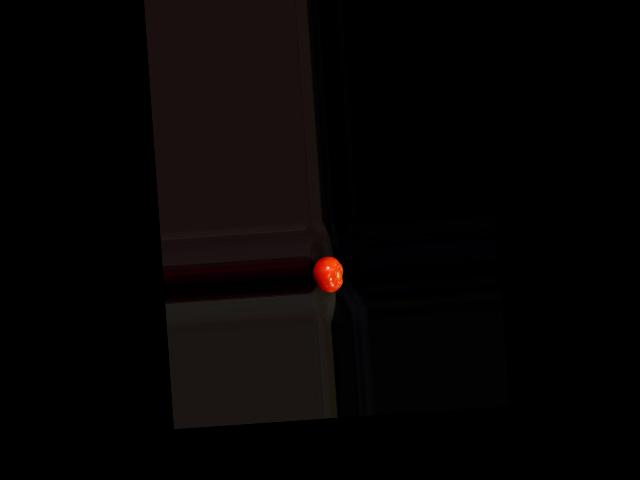tomato: (312, 254, 344, 293)
